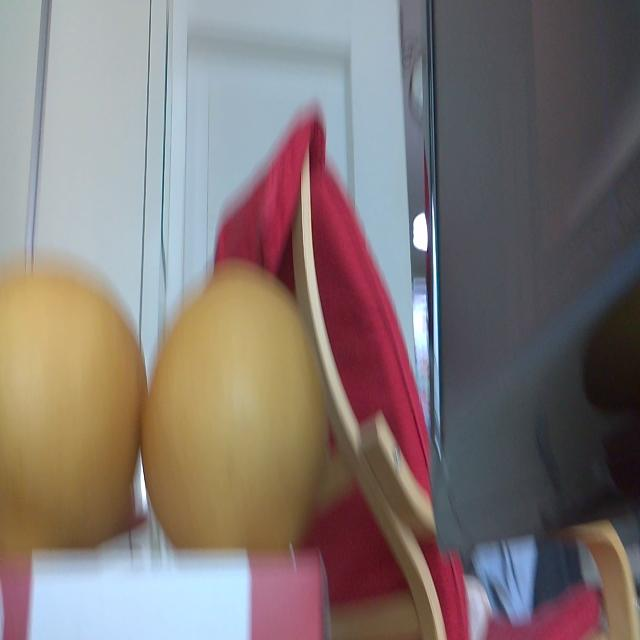pear: (140, 262, 328, 542), (0, 263, 146, 542)
